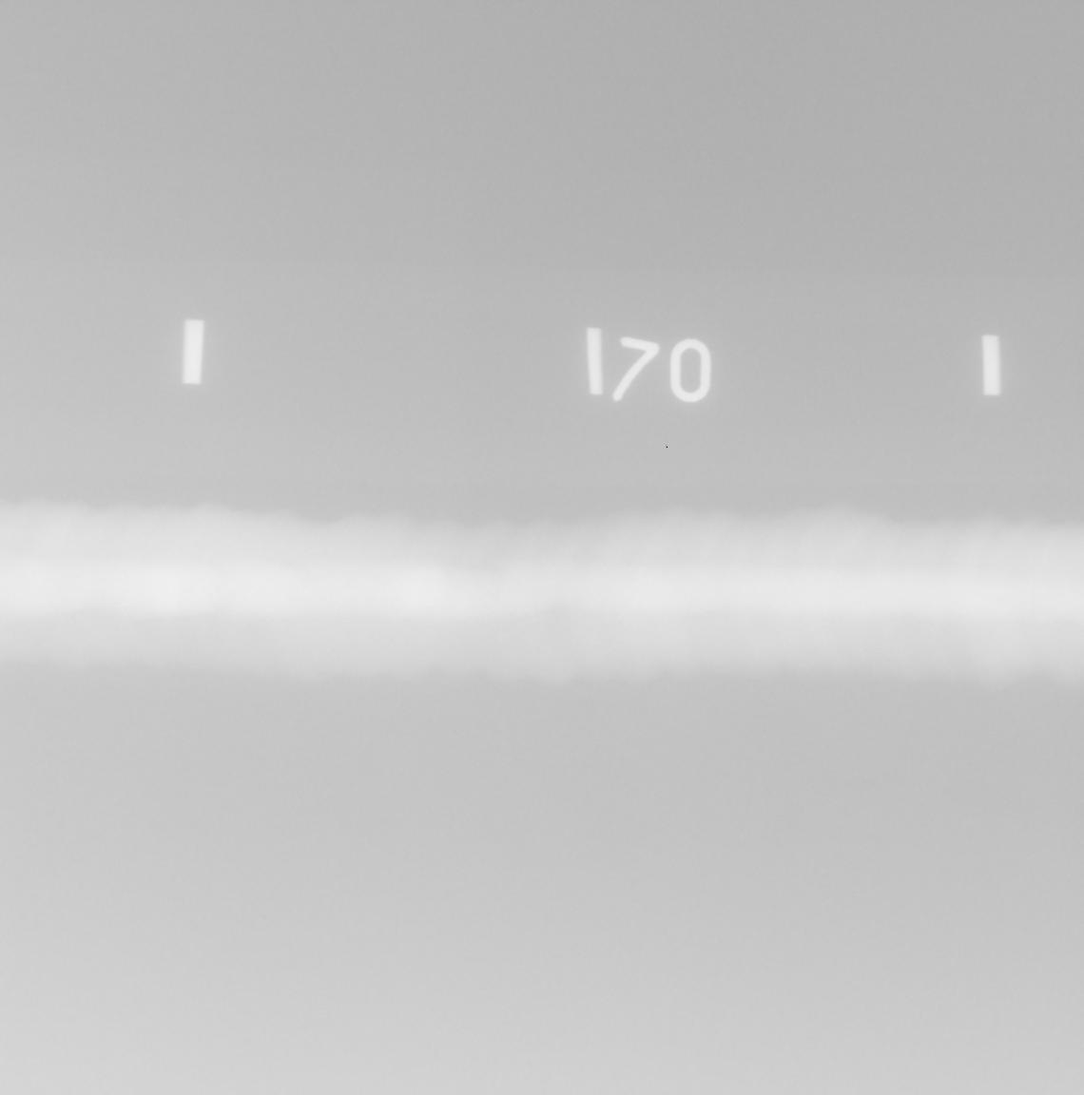Pore/Porosity: (493, 566, 501, 571), (498, 575, 503, 578), (491, 572, 496, 575)
